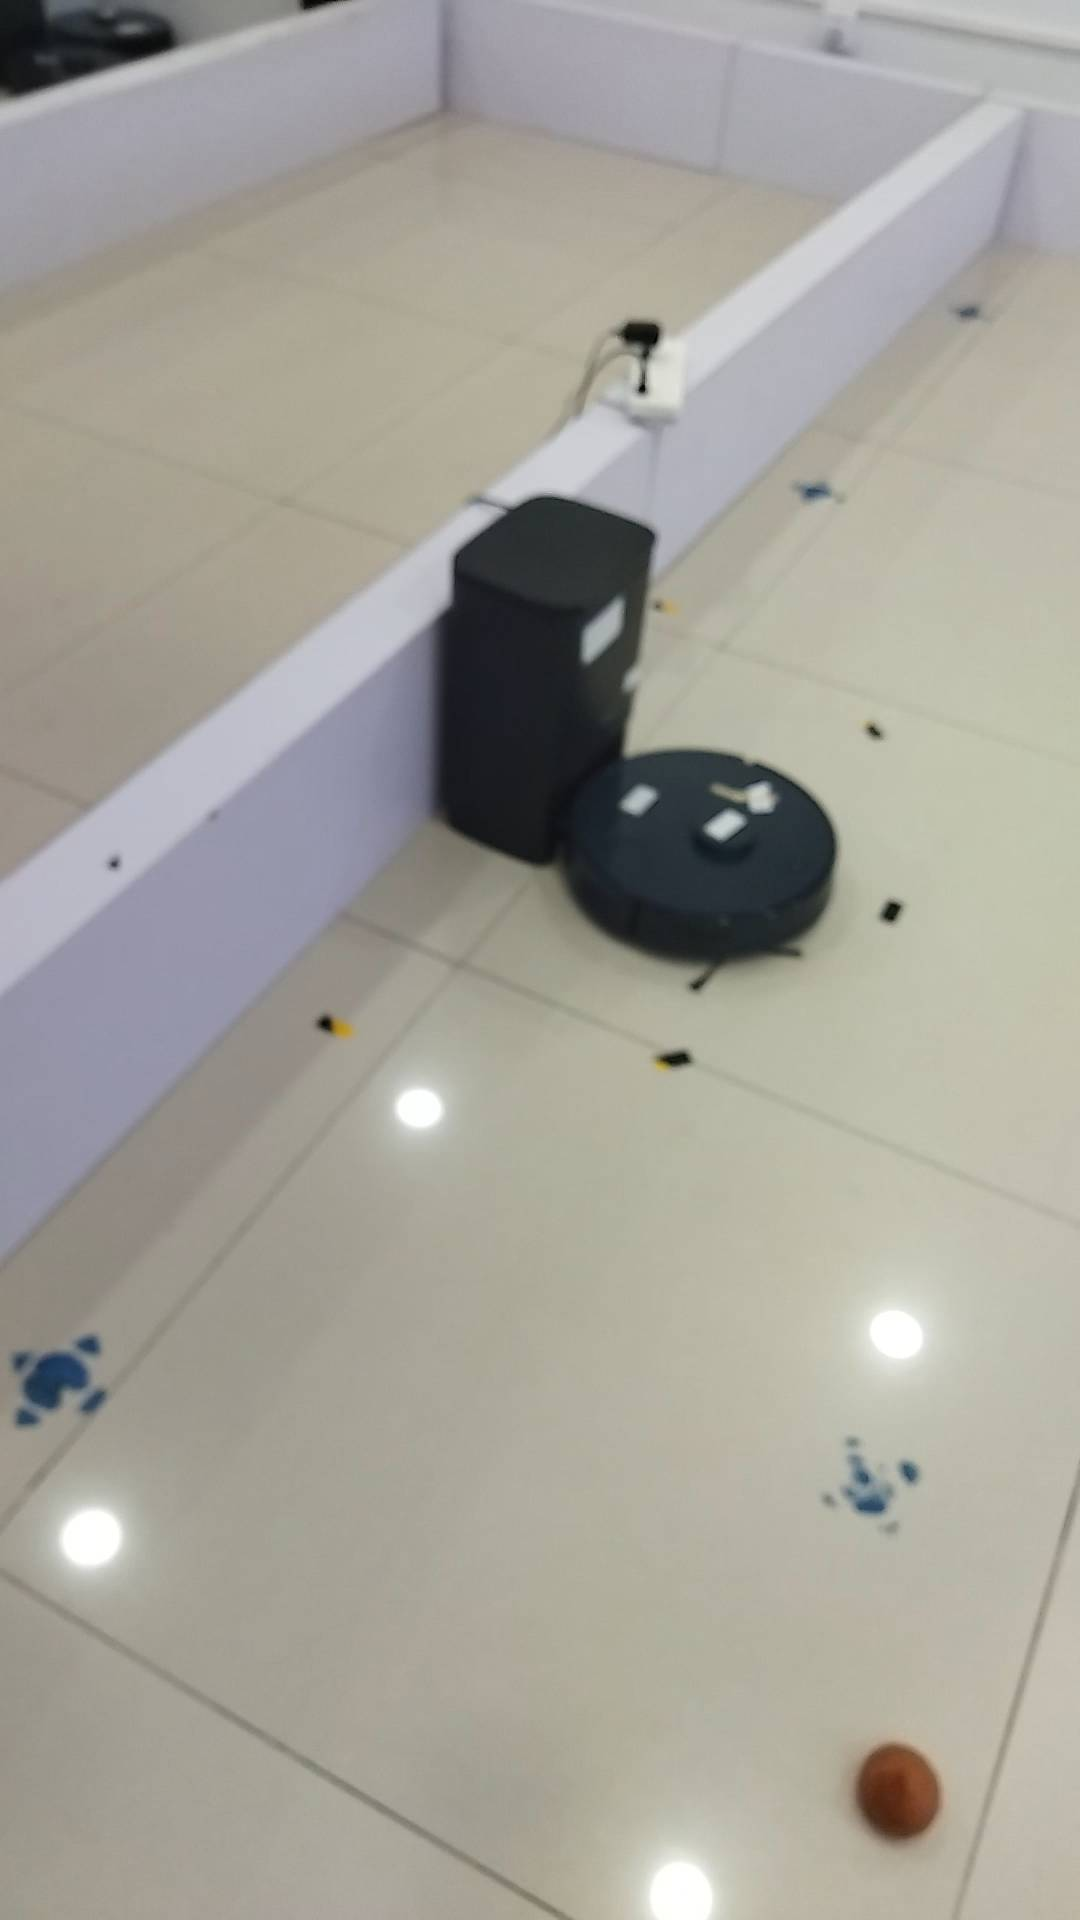dust collecting barrel: (448, 495, 655, 865)
